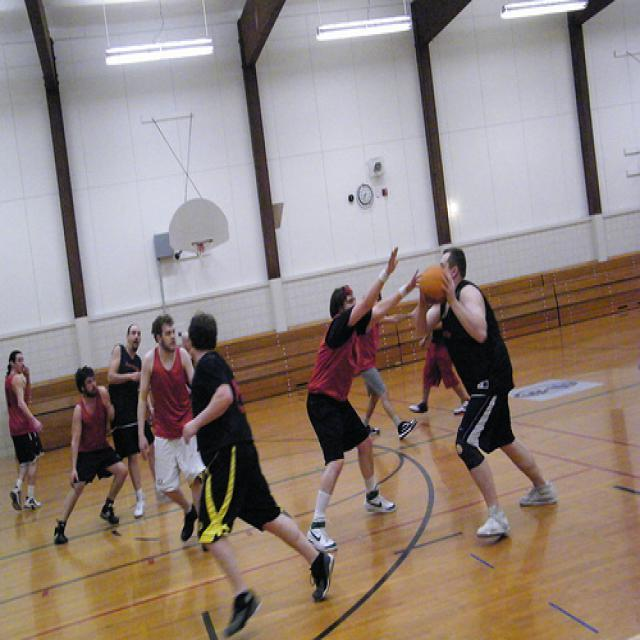basketball: (418, 266, 446, 302)
rim: (190, 238, 212, 248)
